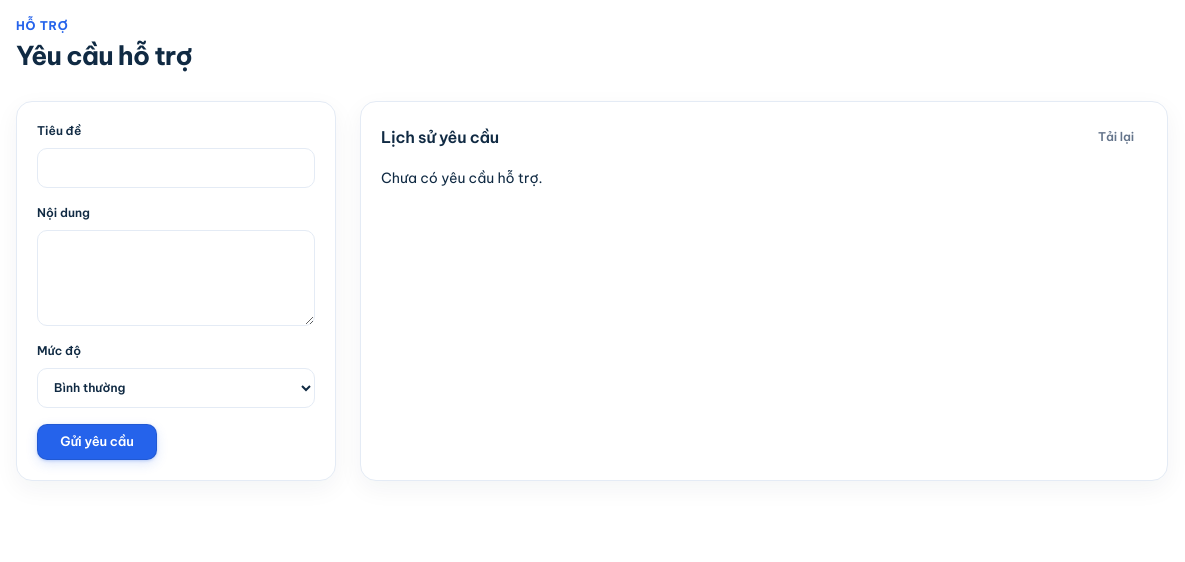
Test: support pages › shows an API 409 conflict when creating a ticket
The image size is (1185, 562).
Type "Cần hỗ trợ" into the field labelled "Tiêu đề".
click(176, 168); type("Cần hỗ trợ")  # box [37, 148, 315, 188]
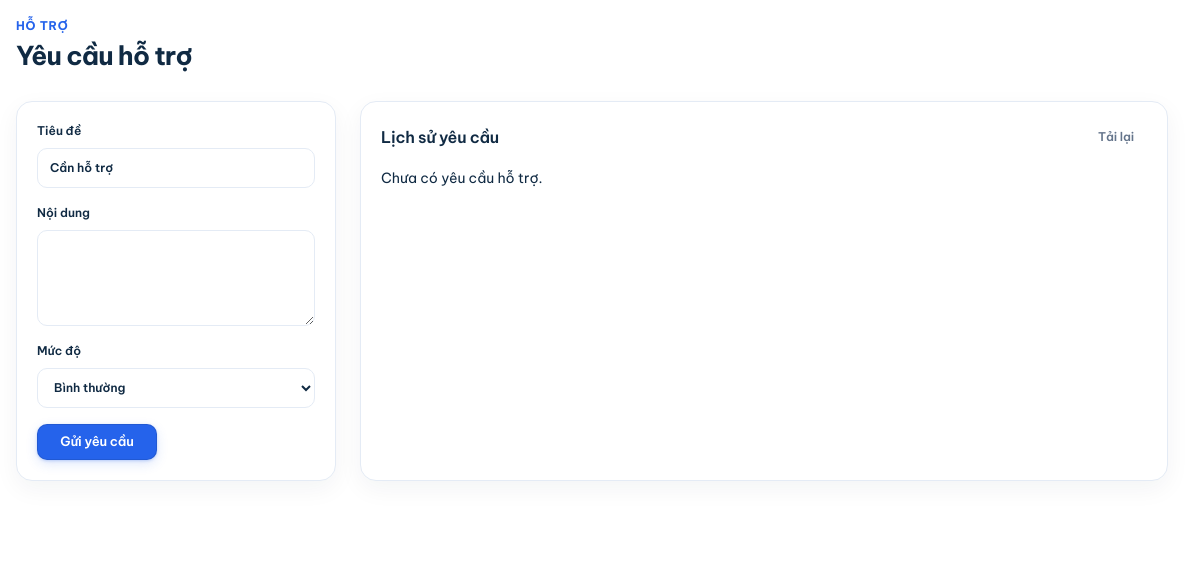
Type "Không mở được lịch tập" into the text box labelled "Nội dung".
click(176, 278); type("Không mở được lịch tập")  # box [37, 230, 315, 326]
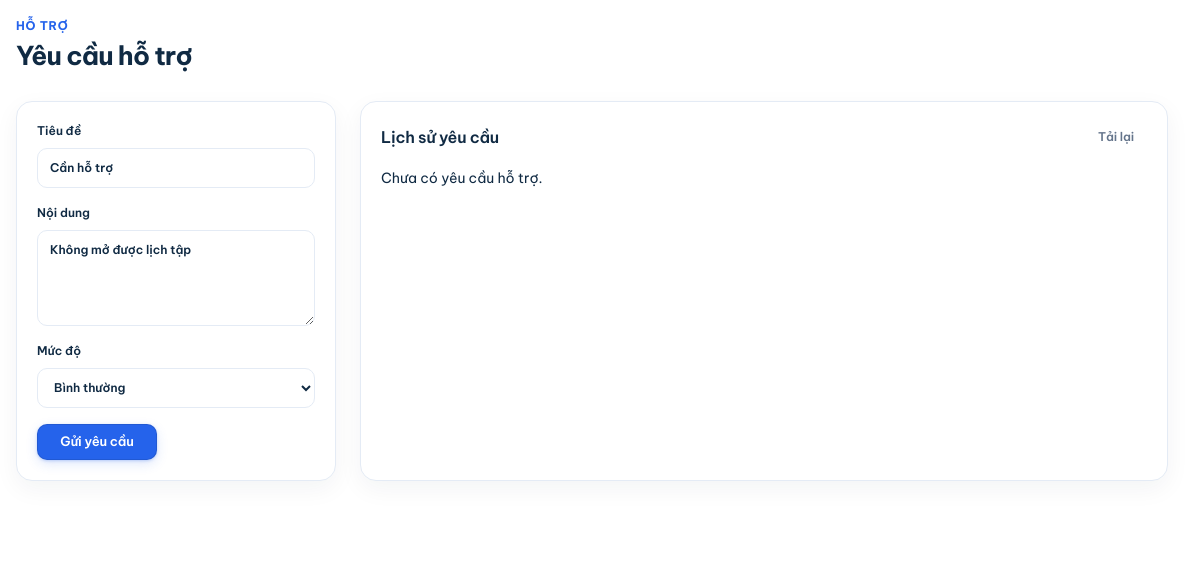
Click the button "Gửi yêu cầu".
click(97, 442)  # box [37, 424, 157, 460]
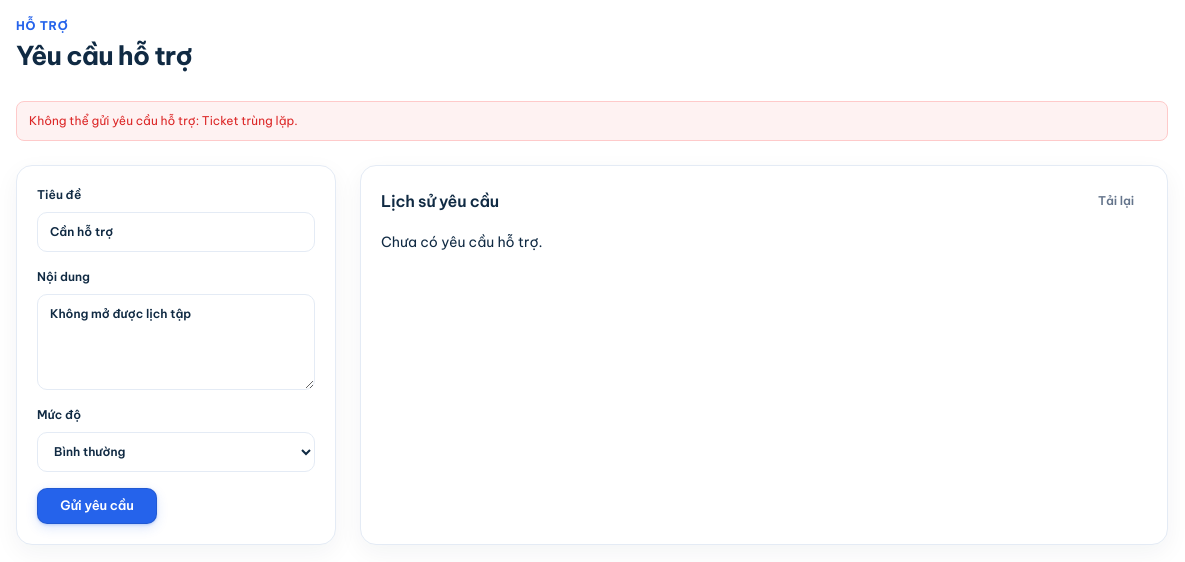
Now the message shows "Ticket trùng lặp.", box [29, 113, 298, 128]
